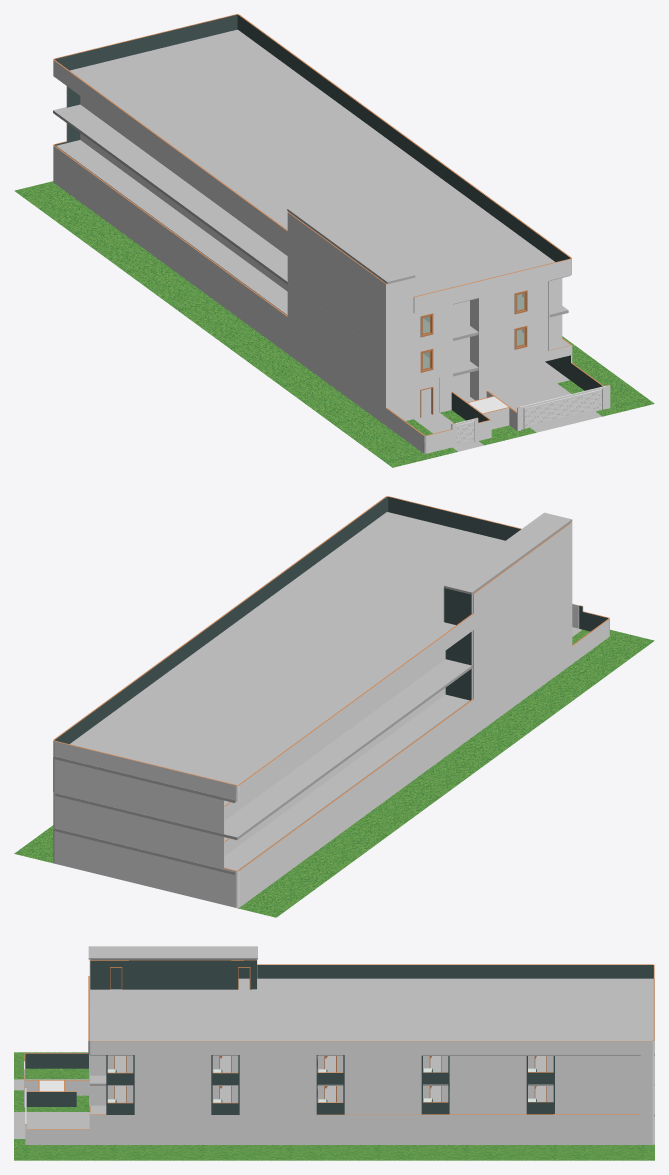
Rendered from PROYECTO FINAL ACOSADAMAS.obj.
3 views of the same model, one above another, from view 1: azimuth 30°, elevation 25°; view 2: azimuth 150°, elevation 25°; view 3: azimuth 270°, elevation 25° (orthographic). The views are drawn at different scales.
Parts seen in each view (by area): view 1: interior_piso_4, exteriorpasto, interior_piso_3, interior_piso_2, techo_ultimo, interior_piso_1, exteriorpasto.001, gate_1, wall(Clone).062, wall(Clone).196, wallWindow(Clone), wallWindow(Clone).003 (+3 smaller); view 2: interior_piso_4, exteriorpasto, interior_piso_3, interior_piso_2, techo_ultimo, wall(Clone).218, wall(Clone).219, wall(Clone).115, wall(Clone).216, wall(Clone).214, wall(Clone).215, wall(Clone).217 (+16 smaller); view 3: interior_piso_4, exteriorpasto, techo_ultimo, exteriorpasto.001, interior_piso_3, interior_piso_2, wall(Clone).040, wall(Clone).043, wall(Clone).045, wall(Clone).037, wall(Clone).152, wall(Clone).179 (+105 smaller).
Part boxes in pixels (x1,y1,x2,y2): interior_piso_4: (70,29,570,304); exteriorpasto: (14,181,654,467); interior_piso_3: (53,104,568,340); interior_piso_2: (56,140,570,376); techo_ultimo: (287,202,415,284); interior_piso_1: (421,361,569,416); exteriorpasto.001: (414,383,601,451); gate_1: (519,385,606,429); wall(Clone).062: (480,325,507,367); wall(Clone).196: (480,290,507,331); wallWindow(Clone): (413,342,439,383); wallWindow(Clone).003: (413,307,439,348); interior_piso_4: (53,512,505,802); exteriorpasto: (14,629,654,917); interior_piso_3: (55,659,472,839); interior_piso_2: (53,694,469,874); techo_ultimo: (444,512,572,594); wall(Clone).218: (197,794,224,833); wall(Clone).219: (66,762,92,801); wall(Clone).115: (197,831,224,869); wall(Clone).216: (145,781,171,820); wall(Clone).214: (92,768,118,808); wall(Clone).215: (119,775,145,814); wall(Clone).217: (171,787,197,827); interior_piso_4: (90,978,654,1055); exteriorpasto: (14,1052,654,1160); techo_ultimo: (88,946,257,959); exteriorpasto.001: (14,1079,89,1138); interior_piso_3: (90,1056,654,1085); interior_piso_2: (90,1086,654,1116); wall(Clone).040: (435,1114,461,1144); wall(Clone).043: (512,1114,538,1144); wall(Clone).045: (563,1114,589,1144); wall(Clone).037: (358,1114,384,1144); wall(Clone).152: (344,1084,370,1114); wall(Clone).179: (580,1084,606,1114).
Size of the model in its own units: 10 by 5.26 by 25.
